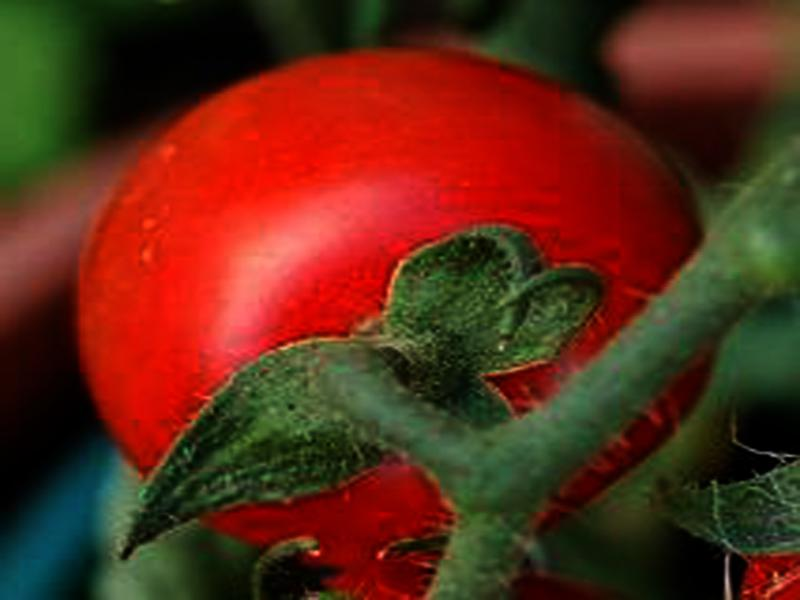Tomato: (74, 50, 720, 585)
